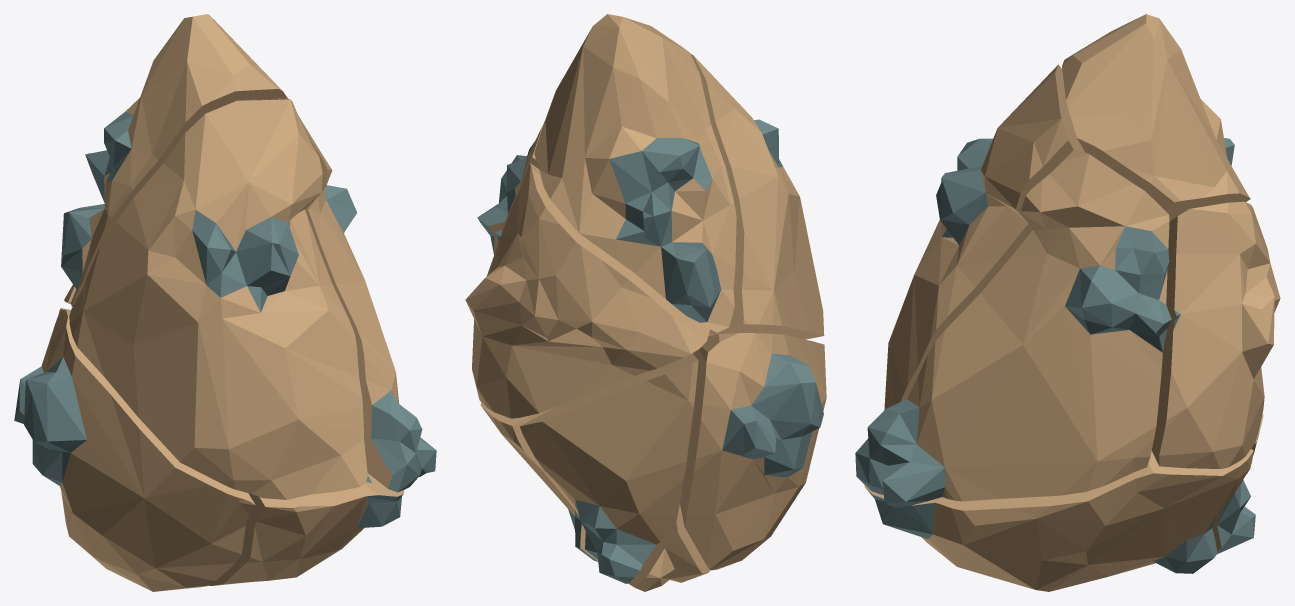
The model's file is SM_LP_MetalNode_3_Pieces.fbx.
3 renders of one model, left to right at view 1: azimuth 30°, elevation 25°; view 2: azimuth 150°, elevation 25°; view 3: azimuth 270°, elevation 25°, orthographic. The views are drawn at different scales.
Visible parts, largest first — view 1: SM_LP_MetalNode_3_Pieces_5, SM_LP_MetalNode_3_Pieces_1, SM_LP_MetalNode_3_Pieces_4, SM_LP_MetalNode_3_Pieces_8, SM_LP_MetalNode_3_Pieces_7; view 2: SM_LP_MetalNode_3_Pieces_4, SM_LP_MetalNode_3_Pieces_6, SM_LP_MetalNode_3_Pieces_1, SM_LP_MetalNode_3_Pieces_3, SM_LP_MetalNode_3_Pieces_5, SM_LP_MetalNode_3_Pieces_2, SM_LP_MetalNode_3_Pieces_7, SM_LP_MetalNode_3_Pieces_8; view 3: SM_LP_MetalNode_3_Pieces_8, SM_LP_MetalNode_3_Pieces_7, SM_LP_MetalNode_3_Pieces_6, SM_LP_MetalNode_3_Pieces_5, SM_LP_MetalNode_3_Pieces_4, SM_LP_MetalNode_3_Pieces_3.
Boxes of the visible parts, x1=… form: SM_LP_MetalNode_3_Pieces_5: x1=69, y1=98, x2=371, y2=499; SM_LP_MetalNode_3_Pieces_1: x1=14, y1=310, x2=255, y2=591; SM_LP_MetalNode_3_Pieces_4: x1=61, y1=14, x2=287, y2=306; SM_LP_MetalNode_3_Pieces_8: x1=299, y1=117, x2=436, y2=492; SM_LP_MetalNode_3_Pieces_7: x1=209, y1=473, x2=404, y2=585; SM_LP_MetalNode_3_Pieces_4: x1=534, y1=14, x2=736, y2=332; SM_LP_MetalNode_3_Pieces_6: x1=465, y1=163, x2=709, y2=418; SM_LP_MetalNode_3_Pieces_1: x1=680, y1=333, x2=826, y2=570; SM_LP_MetalNode_3_Pieces_3: x1=520, y1=353, x2=698, y2=583; SM_LP_MetalNode_3_Pieces_5: x1=690, y1=53, x2=824, y2=339; SM_LP_MetalNode_3_Pieces_2: x1=628, y1=505, x2=710, y2=591; SM_LP_MetalNode_3_Pieces_7: x1=480, y1=335, x2=712, y2=561; SM_LP_MetalNode_3_Pieces_8: x1=477, y1=125, x2=542, y2=254; SM_LP_MetalNode_3_Pieces_8: x1=855, y1=148, x2=1171, y2=507; SM_LP_MetalNode_3_Pieces_7: x1=864, y1=449, x2=1253, y2=591; SM_LP_MetalNode_3_Pieces_6: x1=1151, y1=201, x2=1280, y2=468; SM_LP_MetalNode_3_Pieces_5: x1=884, y1=64, x2=1084, y2=409; SM_LP_MetalNode_3_Pieces_4: x1=1062, y1=14, x2=1250, y2=220; SM_LP_MetalNode_3_Pieces_3: x1=1212, y1=413, x2=1263, y2=554.
Size of the model in its own units: 0.8617 by 1.4 by 0.9237.
